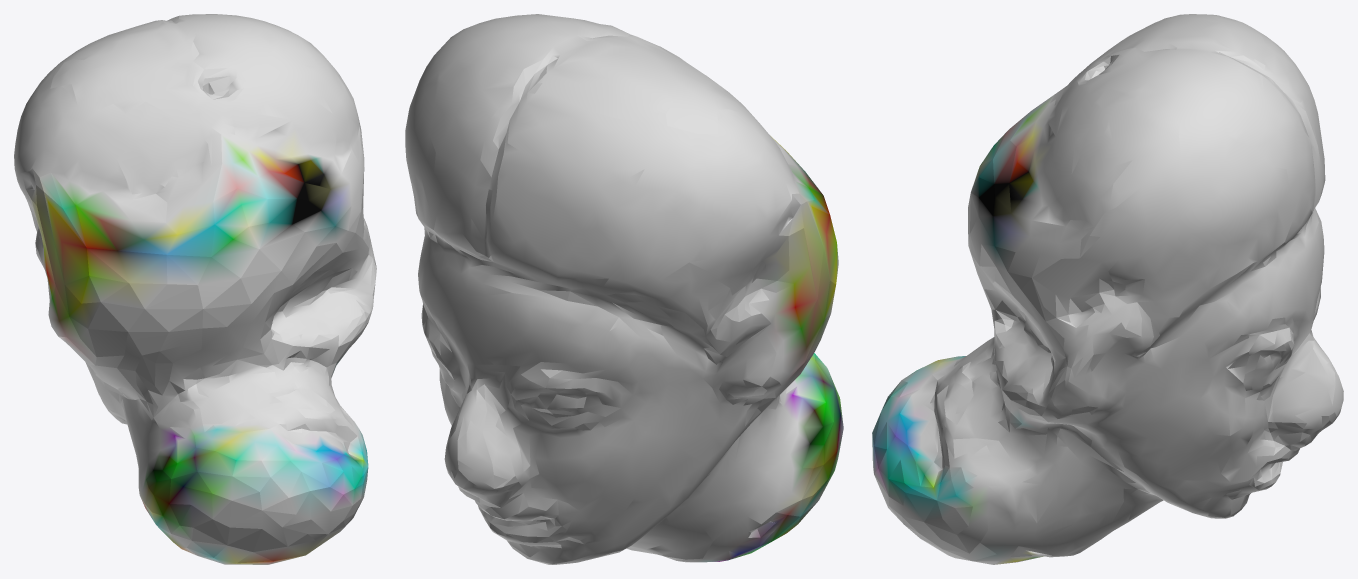
Rendered from Rostro5.fbx.
3 views of the same model, side by side, from view 1: azimuth 30°, elevation 25°; view 2: azimuth 150°, elevation 25°; view 3: azimuth 270°, elevation 25° (orthographic). The views are drawn at different scales.
Visible parts, largest first — view 1: rostro5 parte adelante con relleno; view 2: rostro5 parte adelante con relleno; view 3: rostro5 parte adelante con relleno.
Boxes of the visible parts, bbox=[...] form: rostro5 parte adelante con relleno: bbox=[14, 14, 376, 564]; rostro5 parte adelante con relleno: bbox=[405, 14, 843, 564]; rostro5 parte adelante con relleno: bbox=[872, 14, 1343, 564].
Size of the model in its own units: 0.4422 by 0.5257 by 0.6347.
